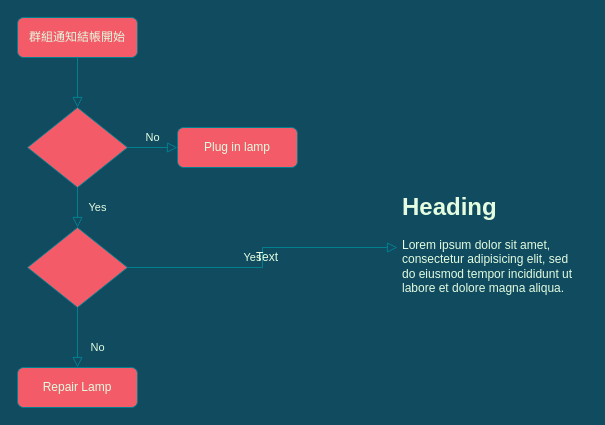
Image size: 605x425. Some labels were removed from this diagram. Here are the shapes that lost their labels. From the top down, the centre of each, then its label:
At pixel 77 147: "執行新機確認語法".
At pixel 77 267: "Bulb burned out?".
